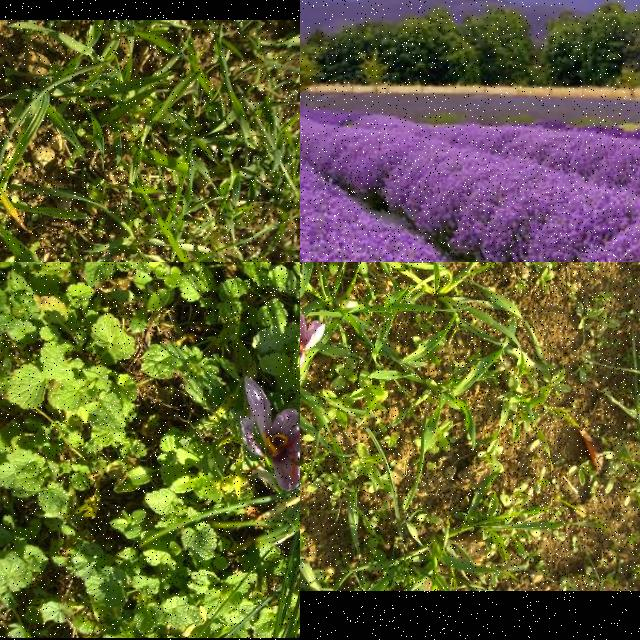flower: (240, 377, 300, 492), (300, 299, 326, 392)
